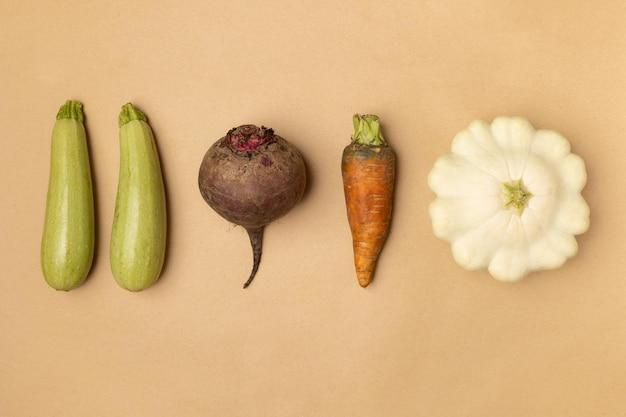beetroot: (195, 111, 335, 311)
